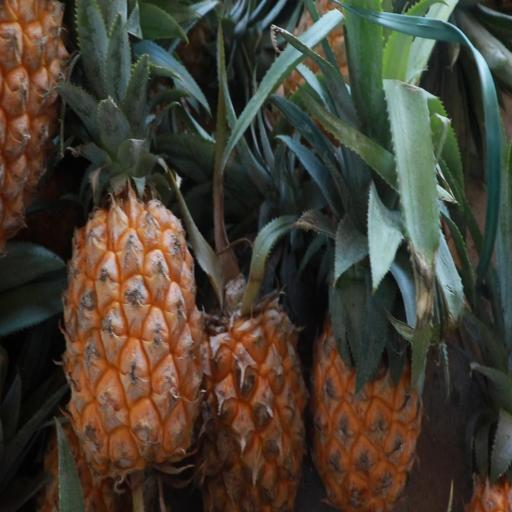Pineapple - v8 v1: (61, 122, 211, 484), (309, 187, 431, 512), (192, 249, 311, 509)
